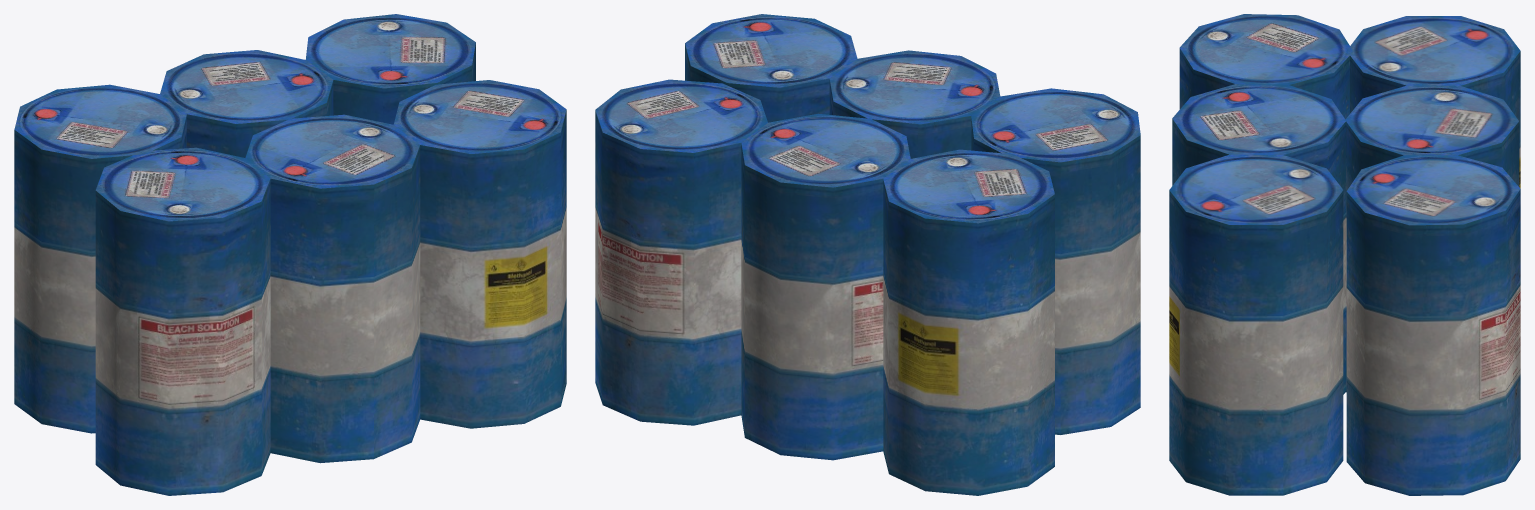
Rendered from Barrel_v3_quadro.003.glb.
The picture shows the model from 3 angles, left to right: view 1: azimuth 30°, elevation 25°; view 2: azimuth 150°, elevation 25°; view 3: azimuth 270°, elevation 25°; orthographic projection.
Visible parts, largest first — view 1: Barrel_v3_quadro.003; view 2: Barrel_v3_quadro.003; view 3: Barrel_v3_quadro.003.
Part boxes in pixels (x1=…): Barrel_v3_quadro.003: x1=14, y1=14, x2=566, y2=495; Barrel_v3_quadro.003: x1=595, y1=14, x2=1140, y2=495; Barrel_v3_quadro.003: x1=1169, y1=14, x2=1520, y2=495.
Bounding box in the file's own units: 1.6 × 0.9547 × 1.12.
Materials: 1 (1 with a texture image).
